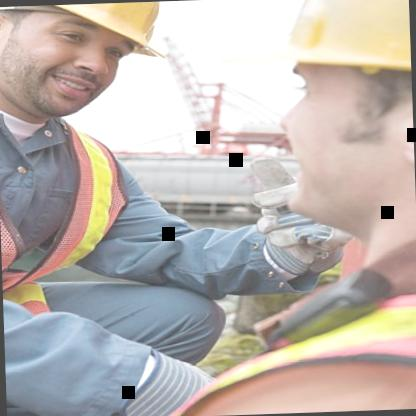helmet: (242, 0, 416, 248), (0, 0, 198, 123)
